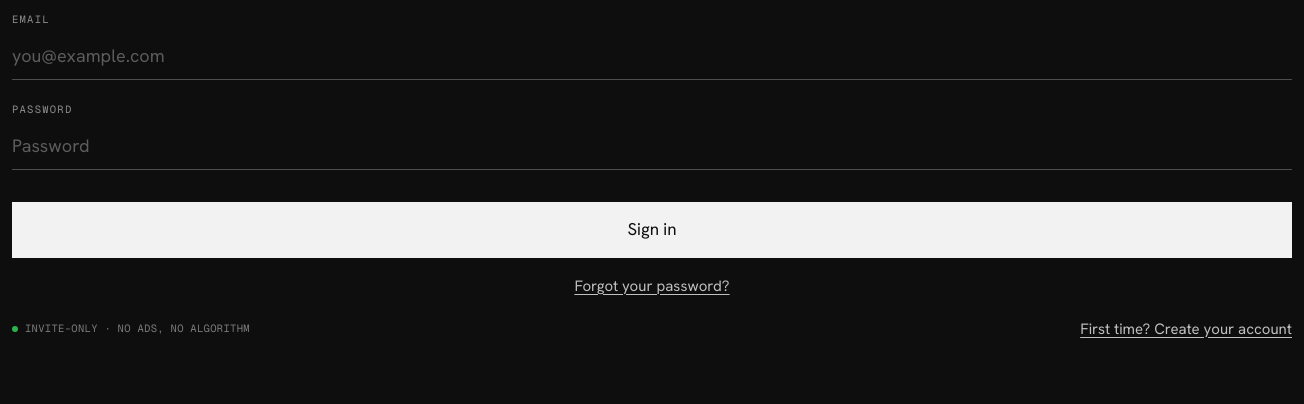
it: AuthCard › renders signin by default; the toggle switches to signup and reveals the name field
This screenshot has width=1304, height=404.
Check: the button "Sign in" is shown, box [12,202,1292,258]
Check: the field with placeholder "What should we call you?" is not shown
Click the button "First time? Create your account" at point(1186, 329), box [1080,306,1292,352]
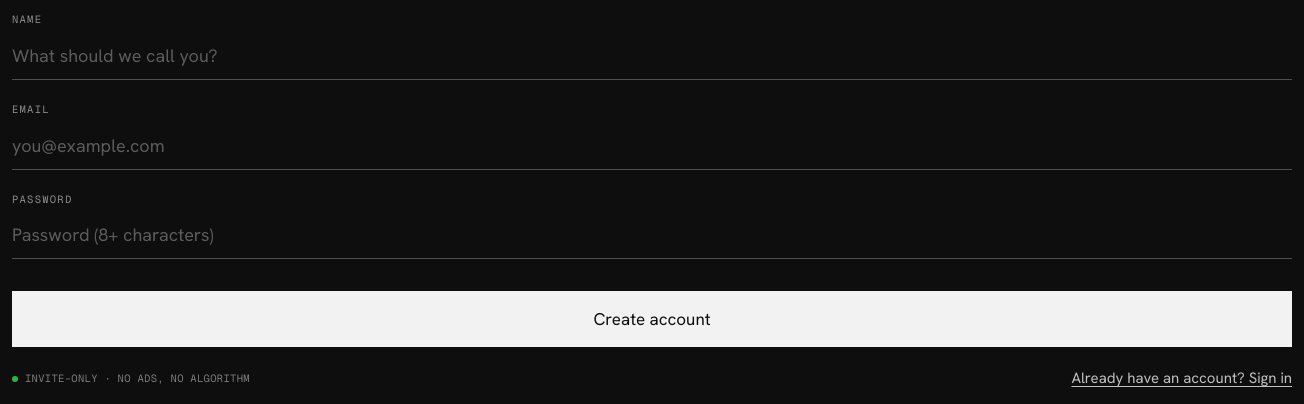
Check: the field with placeholder "What should we call you?" is shown, box [12,32,1292,80]
Check: the button "Create account" is shown, box [12,291,1292,347]
